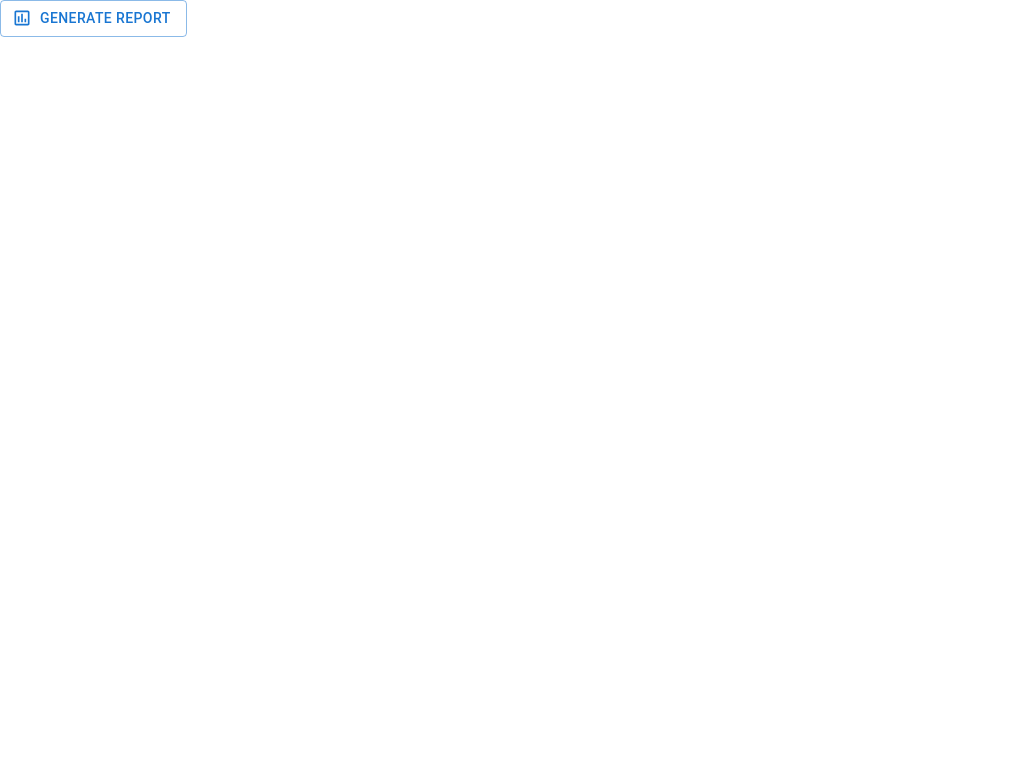
it: report preview and download workspace › loads a report lazily, permits report selection and handles download failures
Later steps or results of the test are not shown.
Click the button "Generate report".
click(93, 18)  # box [0,0,187,36]
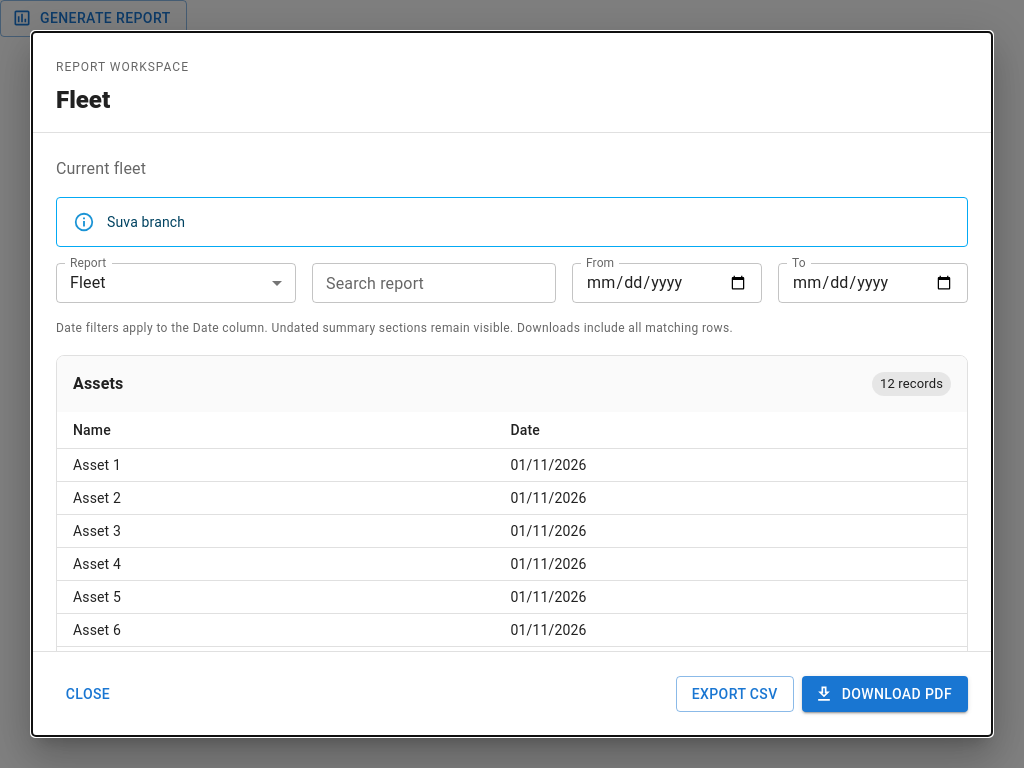
Expected: the text "Current fleet" is shown, [56,159,146,178]
Press the mouse on the dropdown named "Report" at (88, 283), box [70,273,106,292]
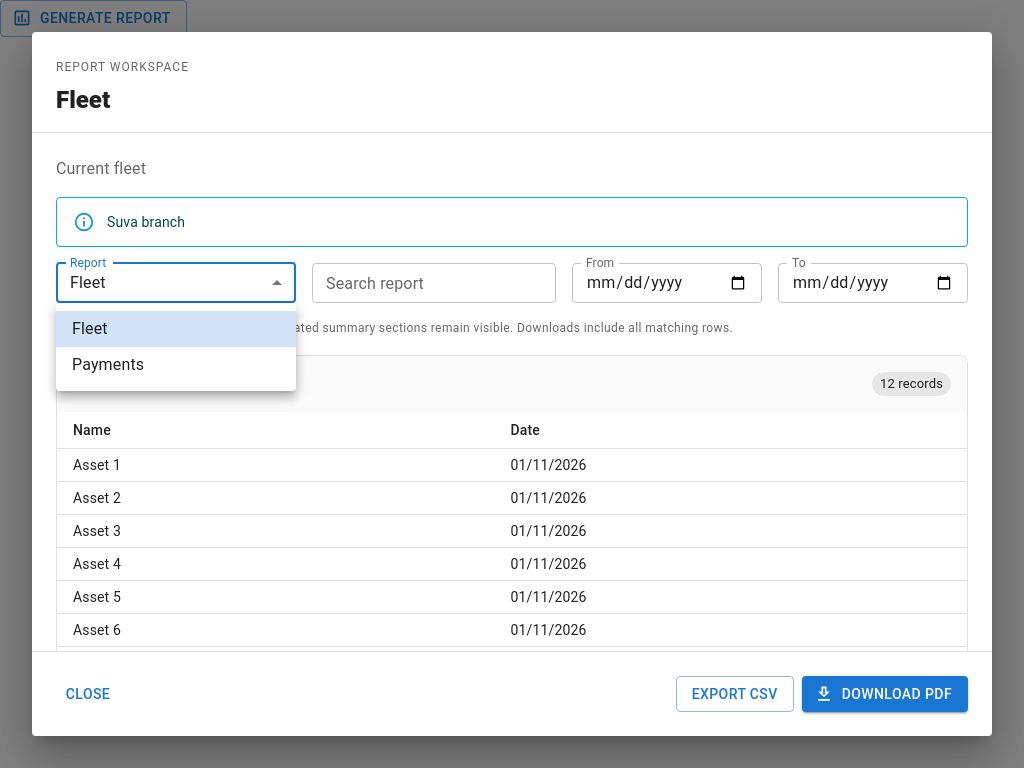
Click the option "Payments".
click(108, 364)  # box [72,355,144,374]
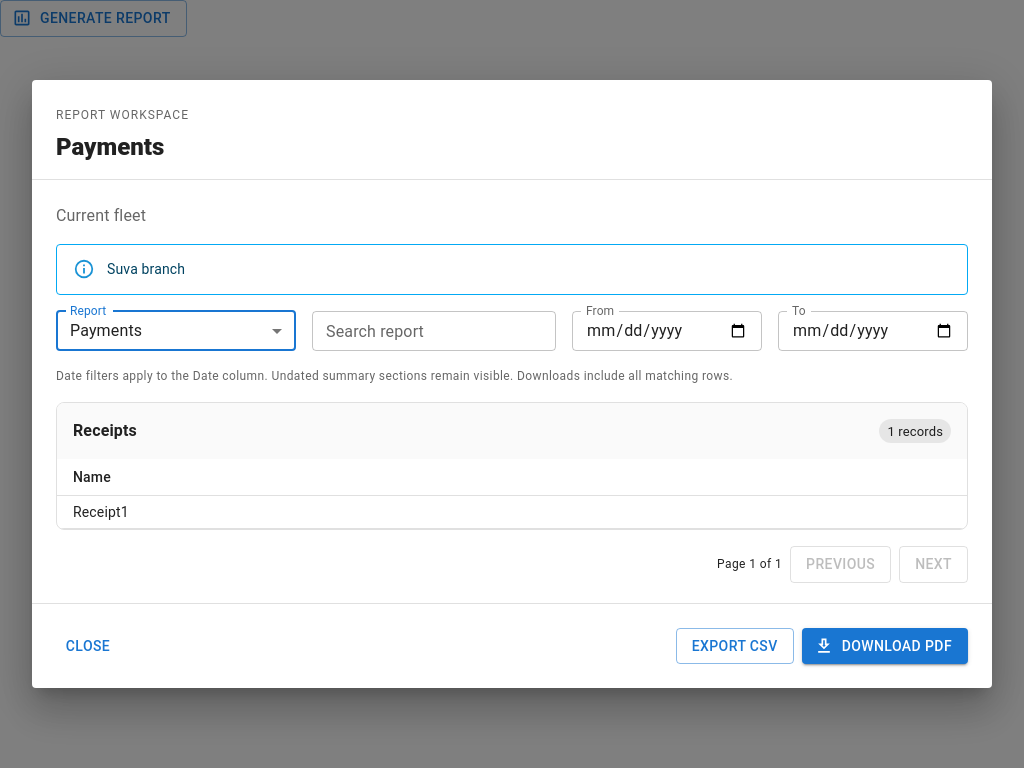
Expected: the text "Receipt1" is shown, [57,496,967,529]
